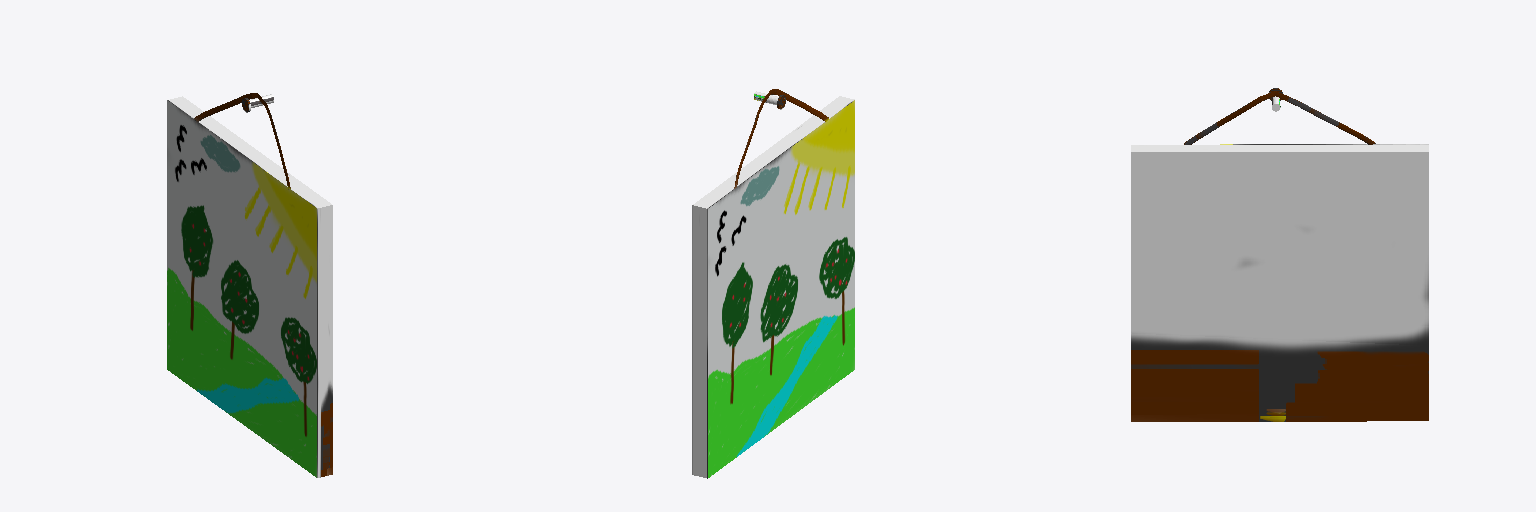
The picture shows the model from 3 angles: view 1: azimuth 30°, elevation 25°; view 2: azimuth 150°, elevation 25°; view 3: azimuth 270°, elevation 25°; orthographic projection.
Parts seen in each view (by area): view 1: Cube.003; view 2: Cube.003; view 3: Cube.003.
Boxes of the visible parts, x1=… form: Cube.003: x1=167, y1=93, x2=332, y2=477; Cube.003: x1=692, y1=89, x2=854, y2=478; Cube.003: x1=1131, y1=88, x2=1428, y2=421.
Bounding box in the file's own units: 0.1109 × 1.22 × 1.
1 materials, 1 textured.